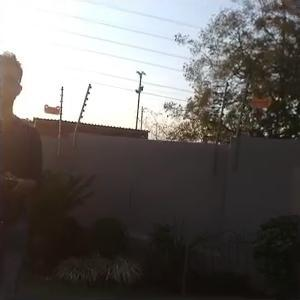follow: (0, 48, 47, 298)
